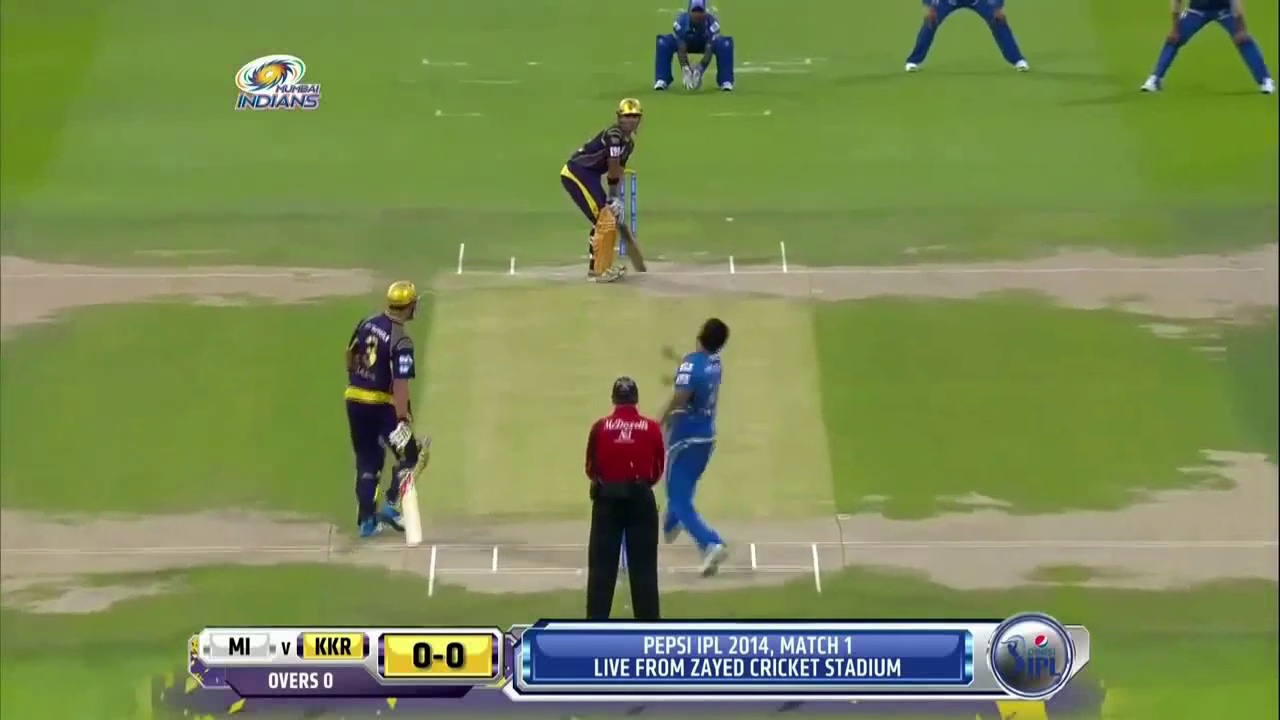bat: (397, 471, 425, 546), (621, 227, 648, 274)
